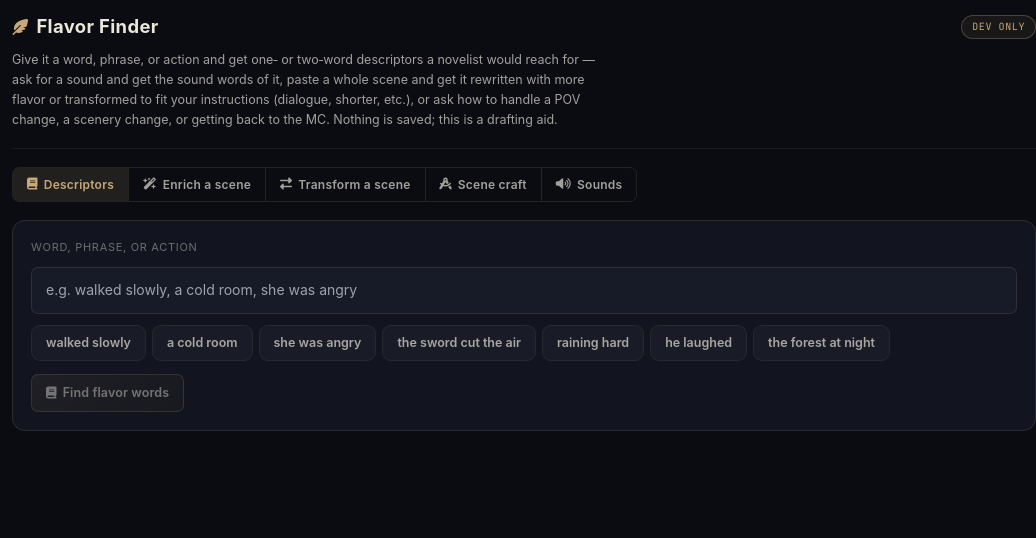
Test case: FlavorFinder — answered-by provider › still renders when the server sends no provider
The width and height of the screenshot is (1036, 538).
Type "walked slowly" into the field labelled "Word, phrase, or action" at {"x": 524, "y": 290}, box [31, 267, 1017, 314]
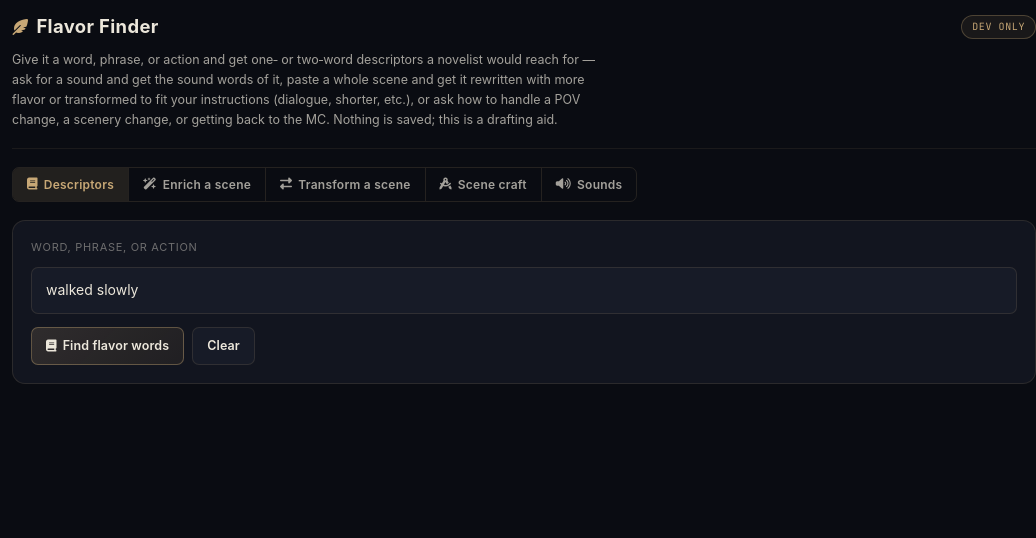
Click the button "Find flavor words" at {"x": 108, "y": 346}, box [31, 327, 184, 365]
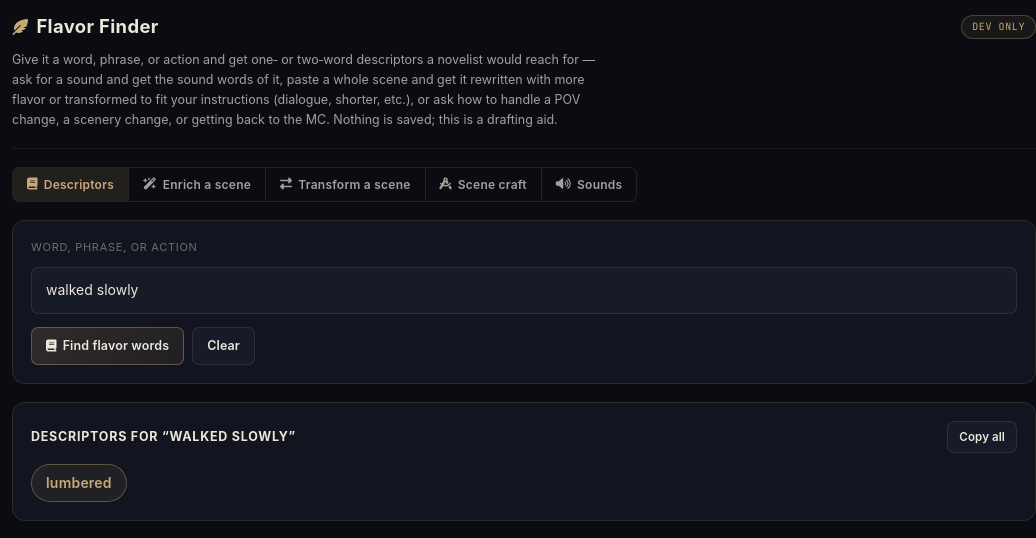
Now the button "lumbered" is shown, box [31, 464, 127, 502]
